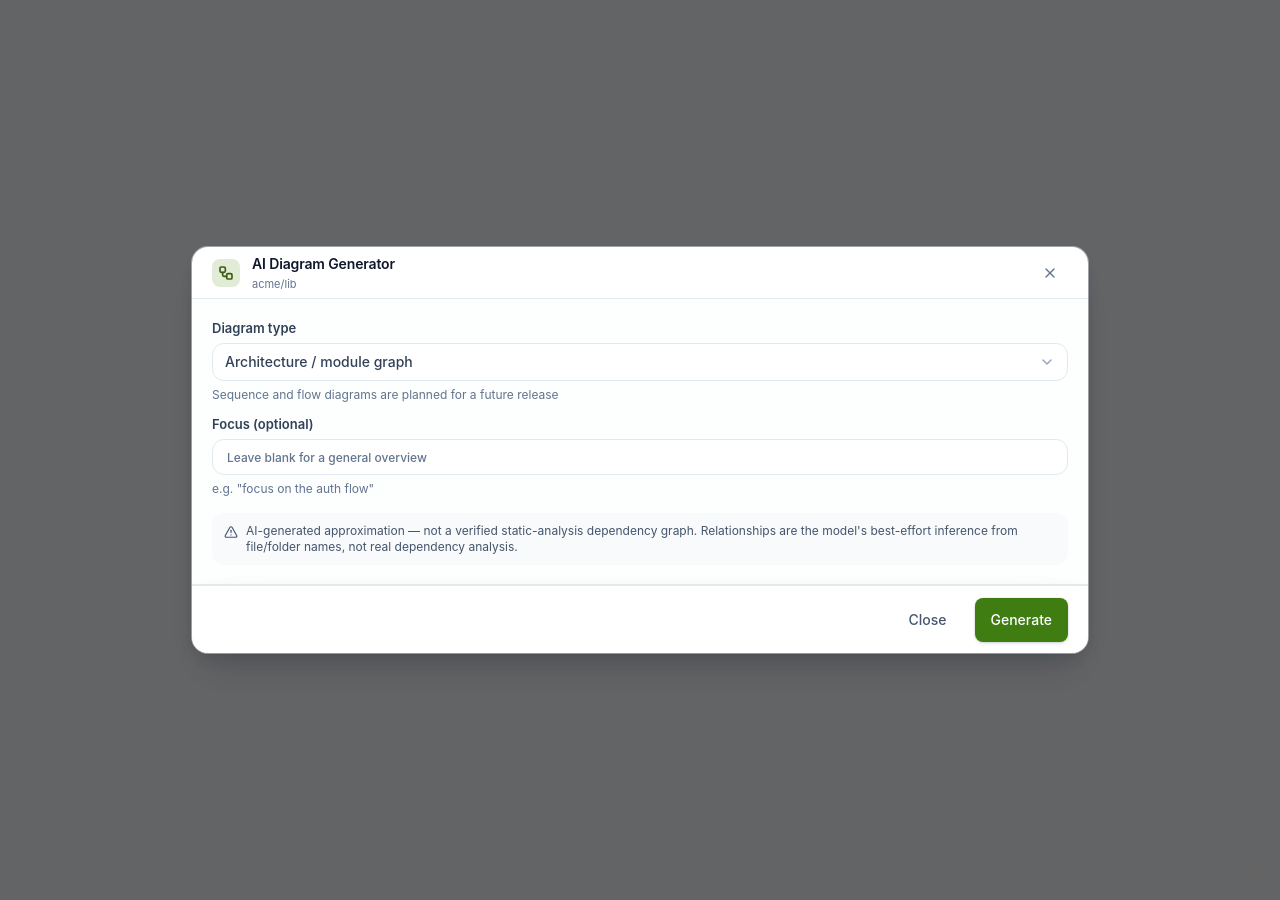
Scenario: DiagramGenerator — embed in repo (Addendum 6b.1) › commits the SVG-file target with both svg and readme payloads on Open PR
The image size is (1280, 900).
Step 1. Click the button "Generate" → {"x": 1021, "y": 620}, box [974, 598, 1068, 642]
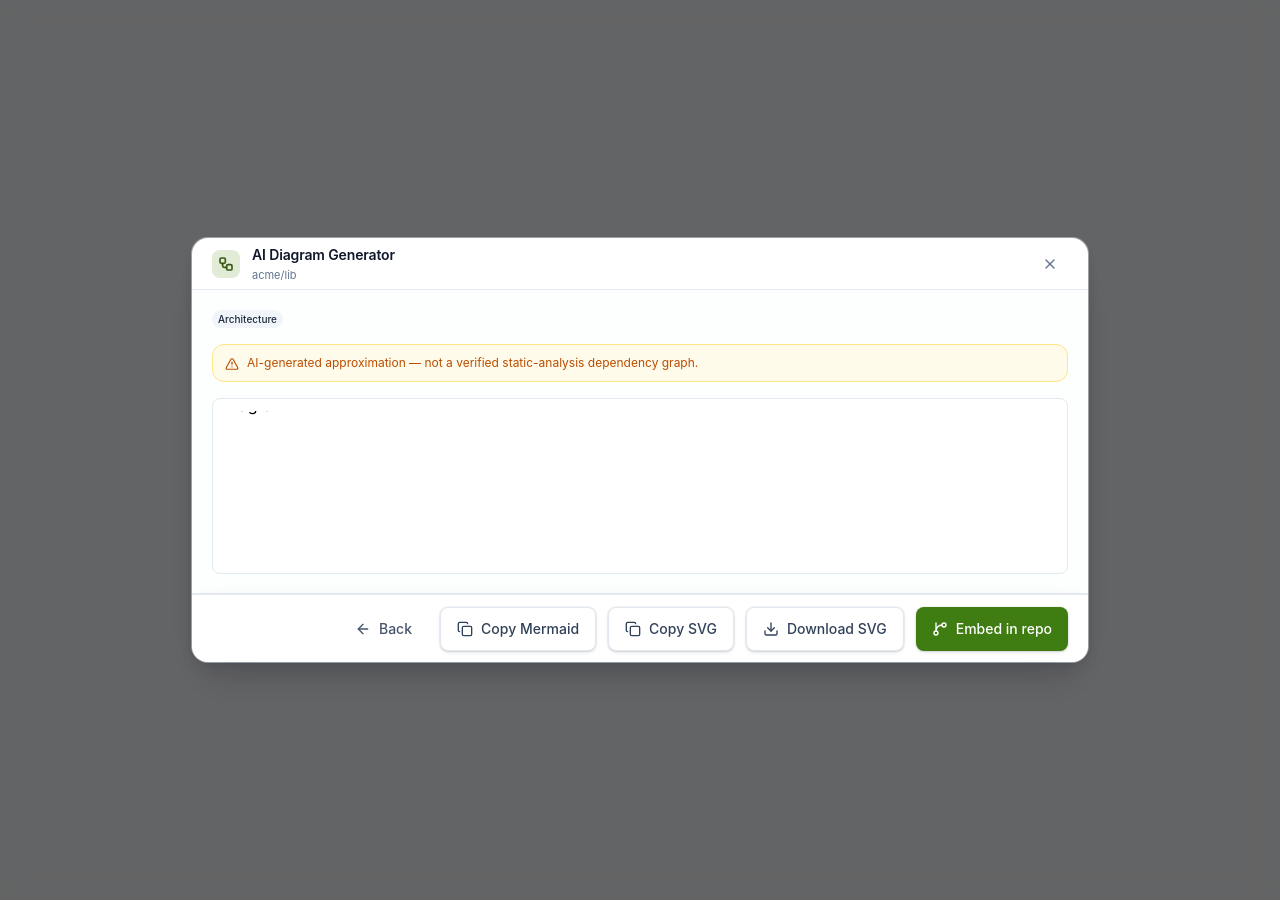
Expected: the element with test id "diagram-mermaid-output" is shown, [212, 398, 1068, 574]
Step 2. Click the button "Embed in repo" → {"x": 992, "y": 628}, box [916, 606, 1068, 650]
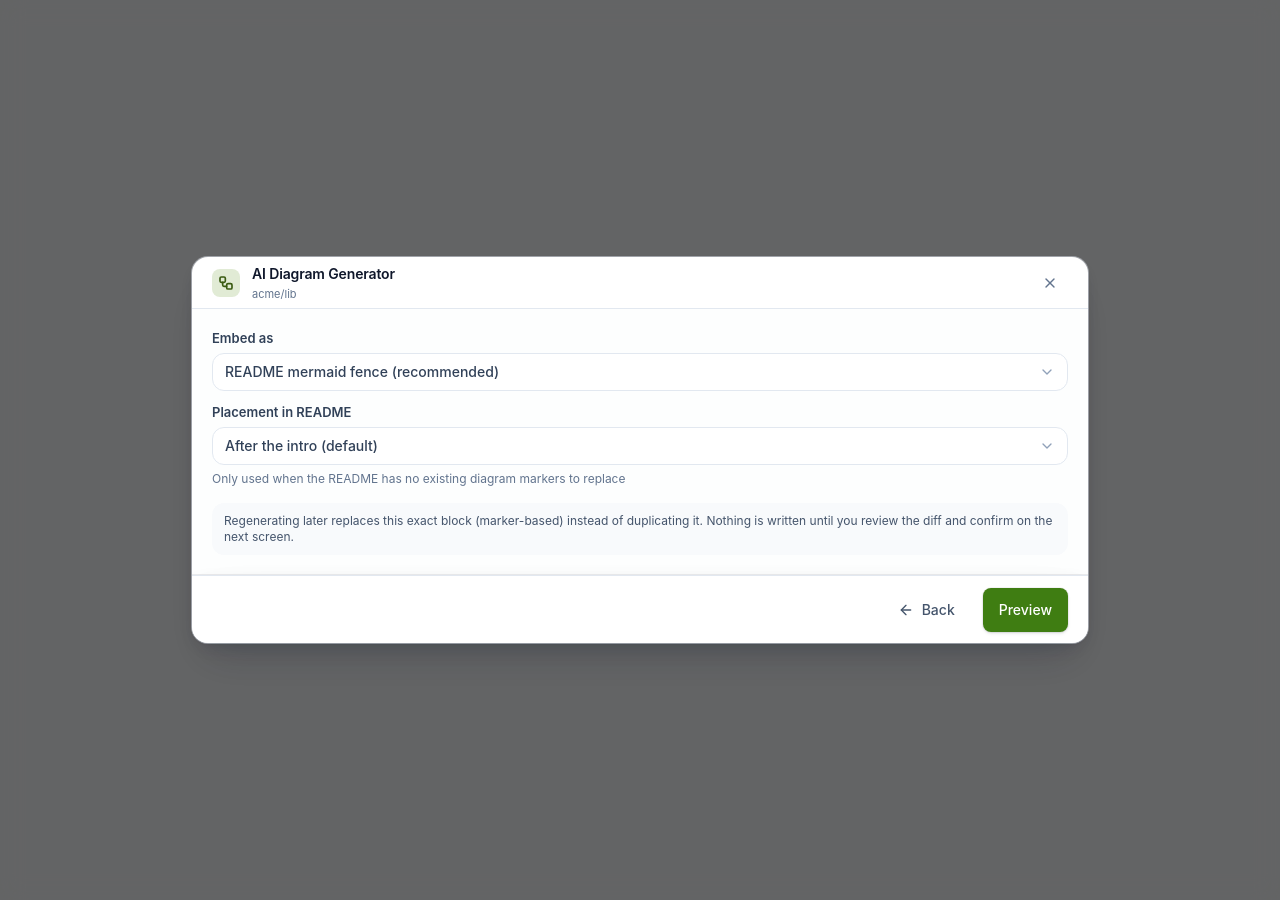
Step 3. Click the dropdown named "embed as" → {"x": 362, "y": 372}, box [212, 353, 1068, 391]
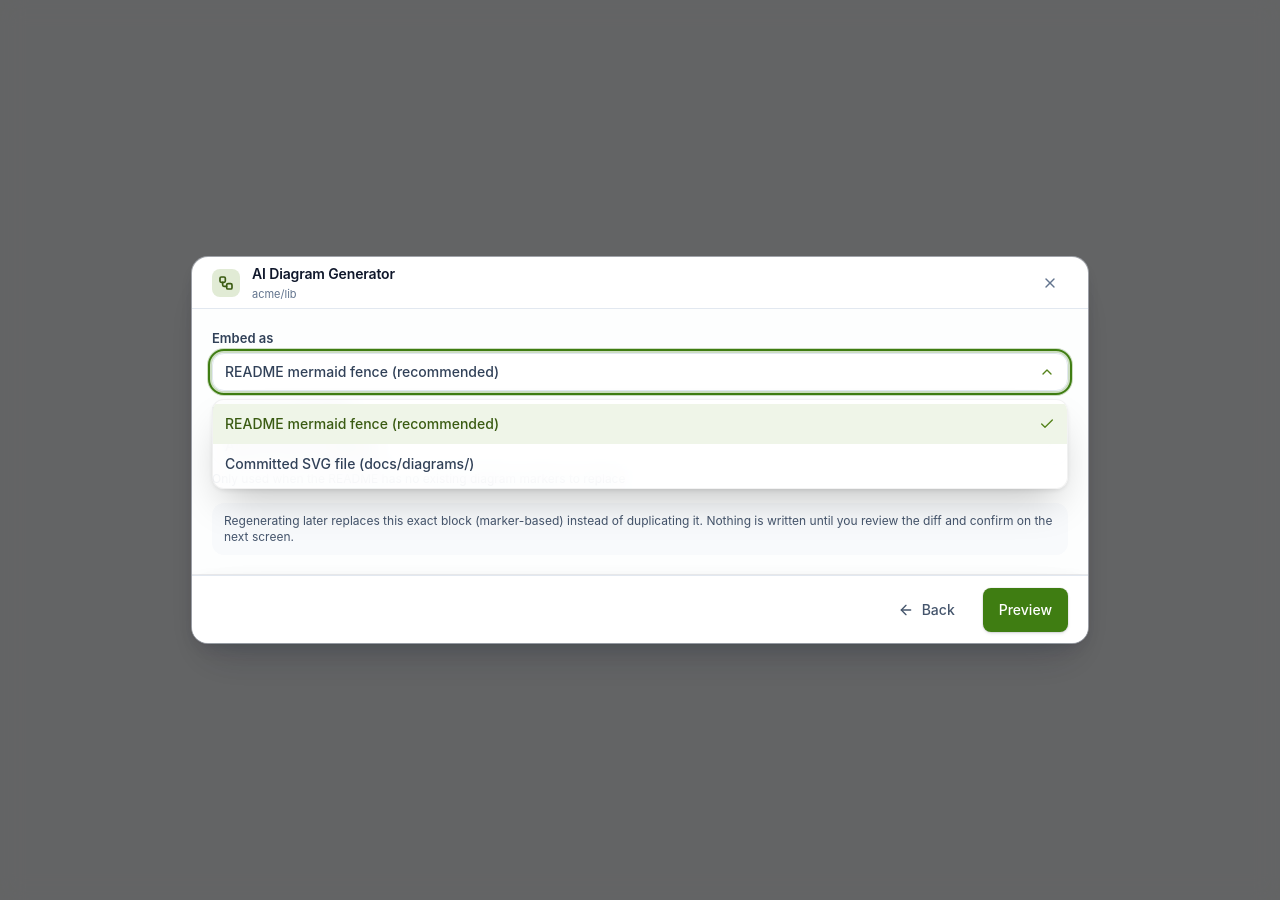
Step 4. Click the option "Committed SVG file (docs/diagrams/)" → {"x": 350, "y": 464}, box [213, 444, 1067, 484]
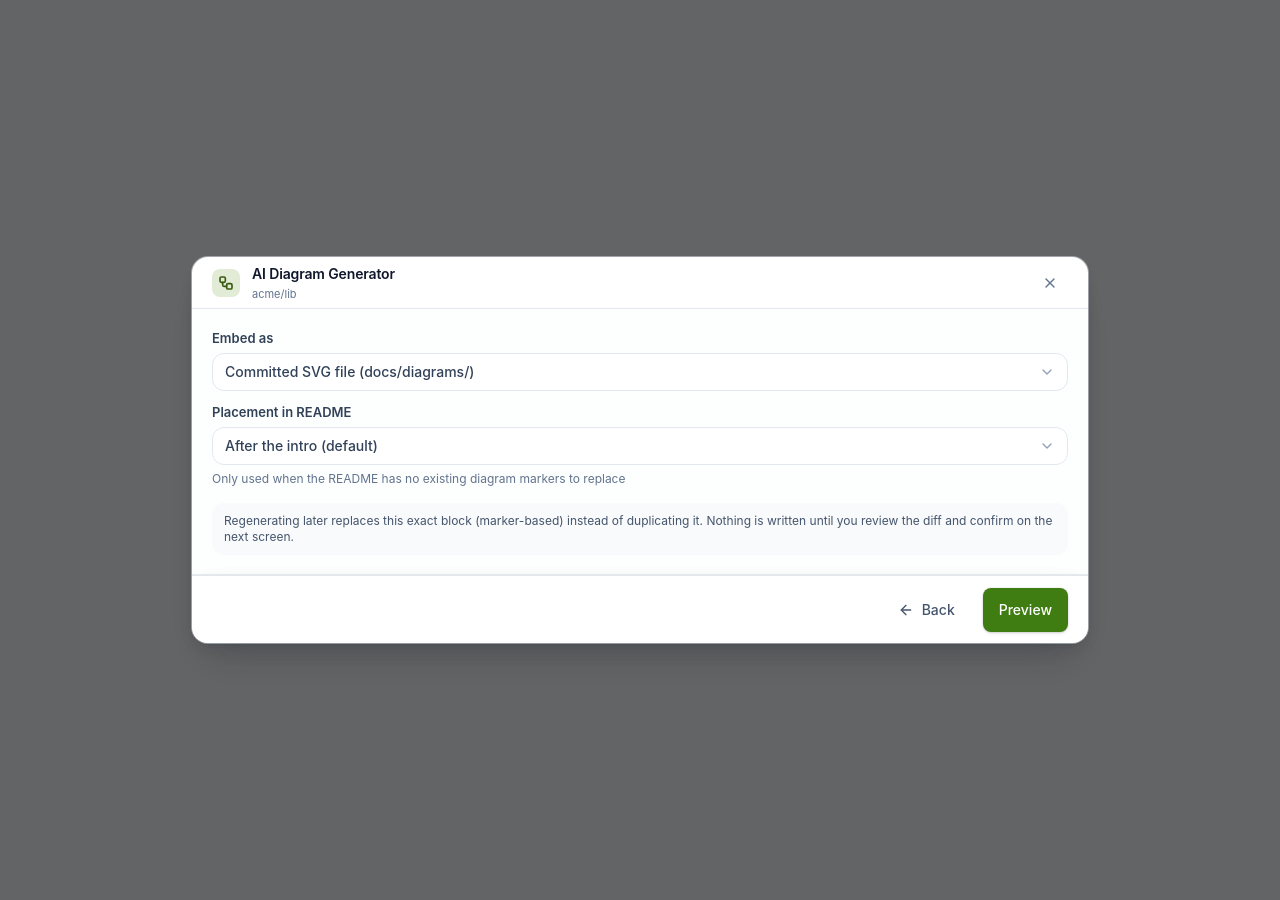
Step 5. Click the button "Preview" → {"x": 1025, "y": 610}, box [983, 588, 1068, 632]
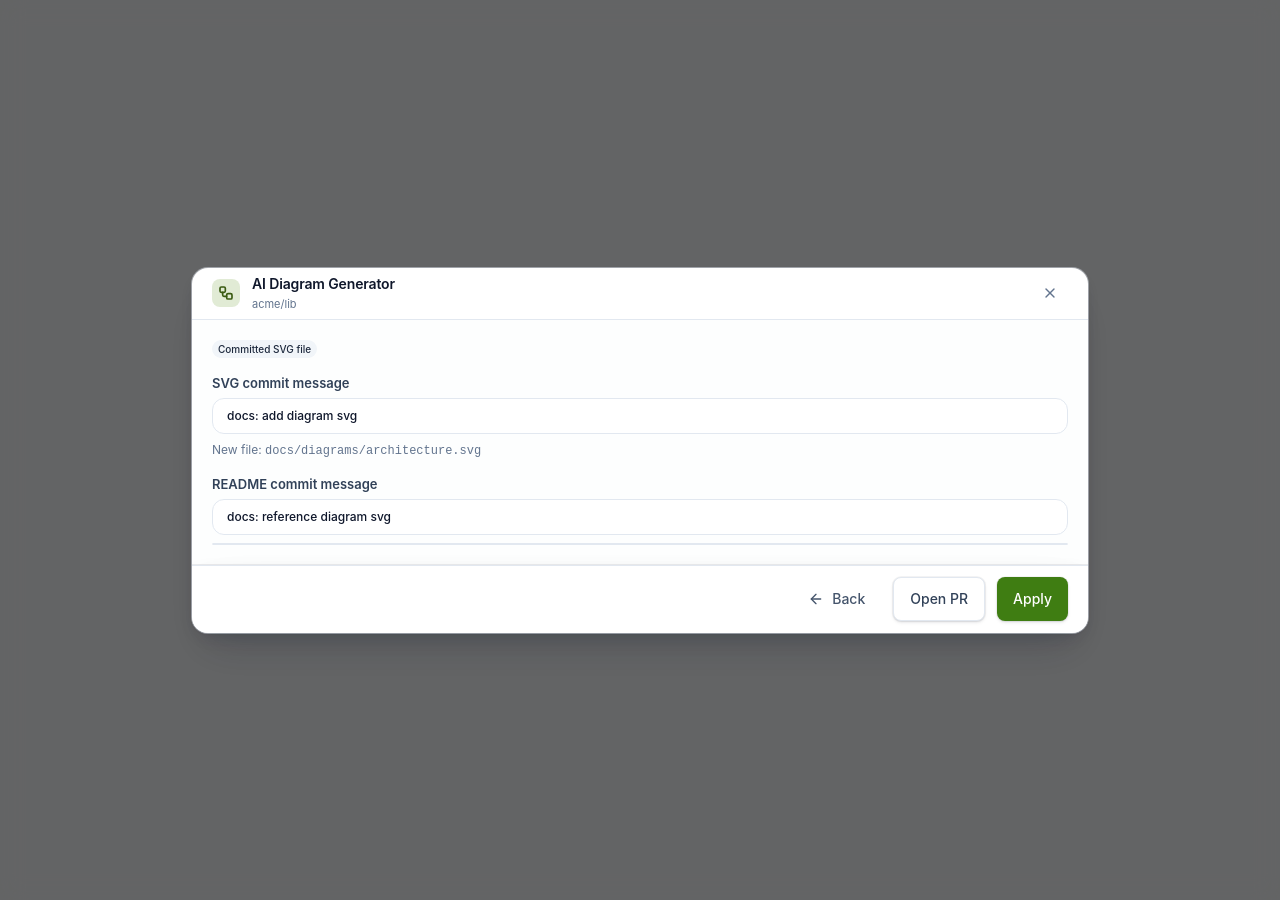
Expected: the element with test id "diagram-embed-svg-path" is shown, [212, 442, 481, 458]
Step 6. Click the button "Open PR" → {"x": 939, "y": 599}, box [893, 577, 985, 621]
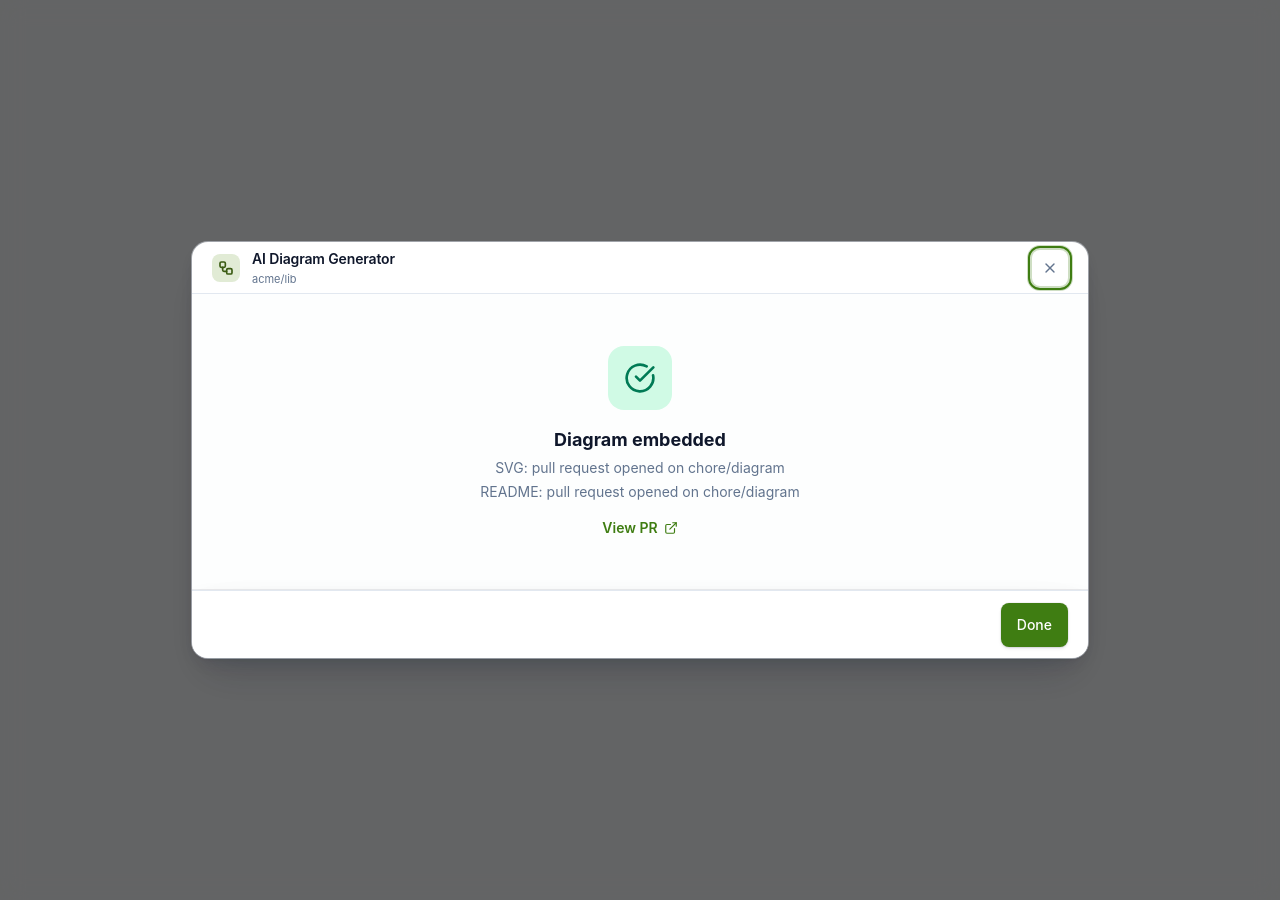
Expected: the link "View PR" is shown, [602, 518, 678, 538]
